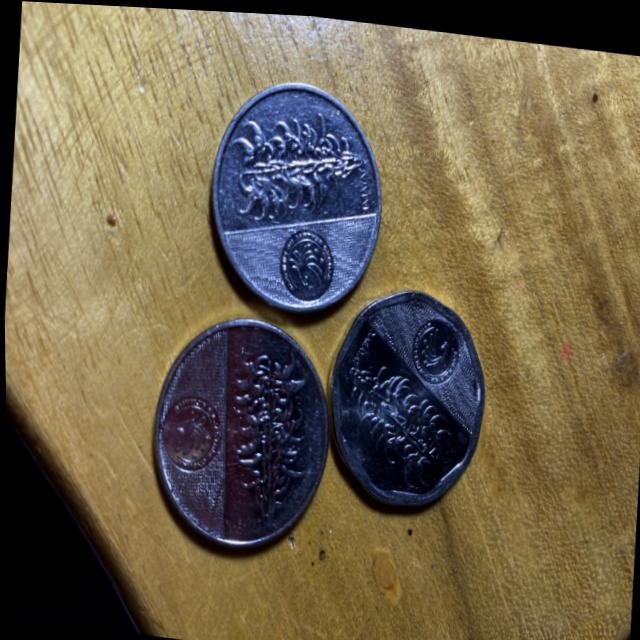5_New_Back: (218, 348, 313, 529), (226, 109, 368, 223), (346, 359, 452, 483)
